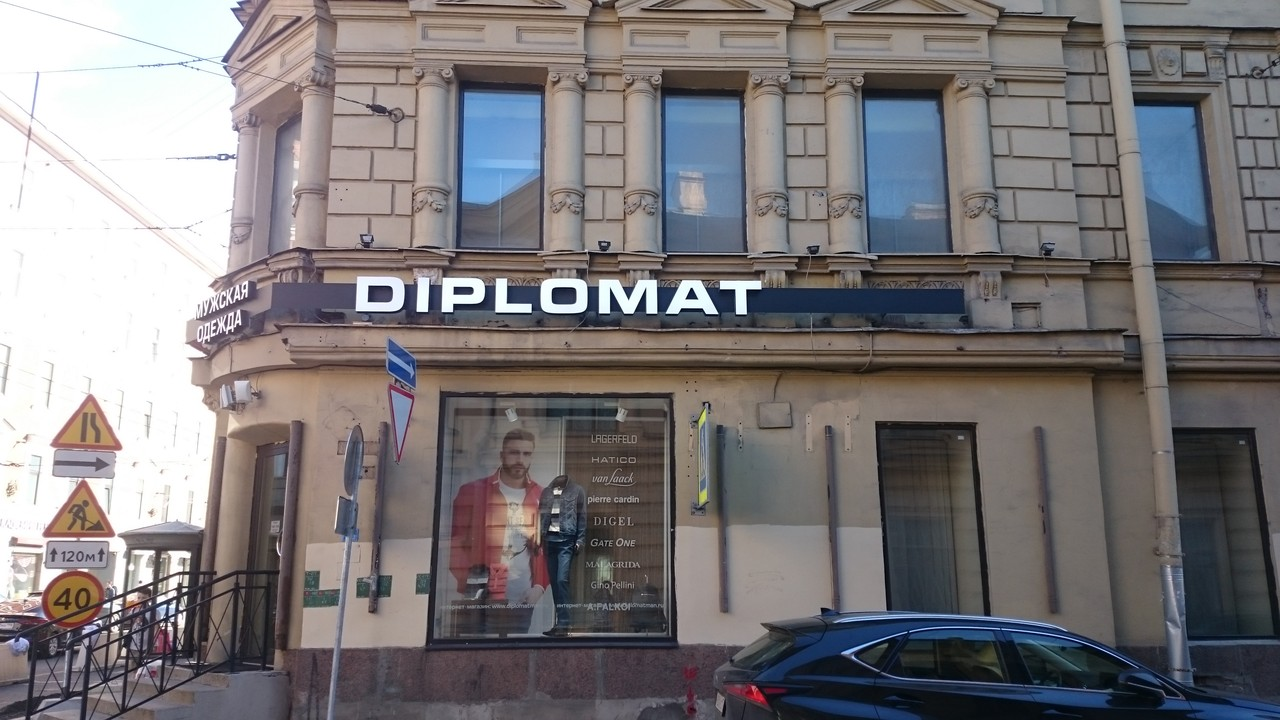signboard: (271, 278, 971, 315)
window: (430, 393, 672, 649), (877, 427, 983, 612), (1132, 97, 1221, 262), (458, 88, 547, 252), (662, 93, 744, 255), (863, 91, 944, 252)
